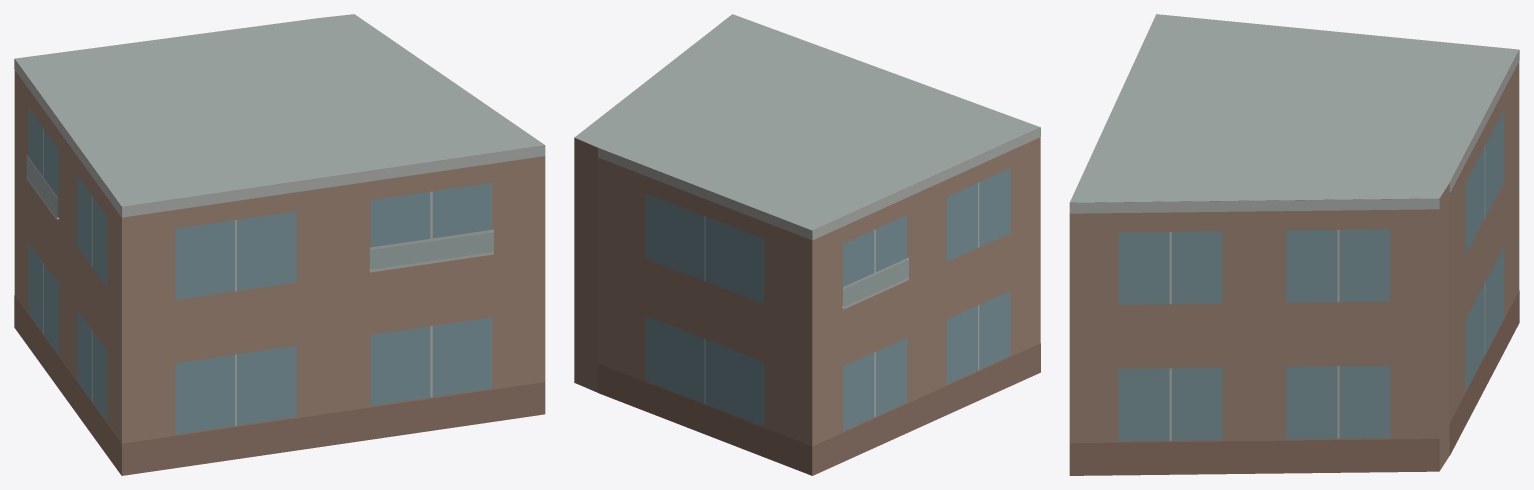
File: survey-upis-32462868.glb
3 renders of one model, left to right at view 1: azimuth 30°, elevation 25°; view 2: azimuth 150°, elevation 25°; view 3: azimuth 270°, elevation 25°, orthographic. The views are drawn at different scales.
Visible parts, largest first — view 1: survey-upis-32462868.tmp; view 2: survey-upis-32462868.tmp; view 3: survey-upis-32462868.tmp.
Part boxes in pixels (<box>): survey-upis-32462868.tmp: <box>14,14,545,475</box>; survey-upis-32462868.tmp: <box>574,14,1040,475</box>; survey-upis-32462868.tmp: <box>1069,14,1519,475</box>.
Bounding box in the file's own units: 9.05 × 6.1 × 9.12.
